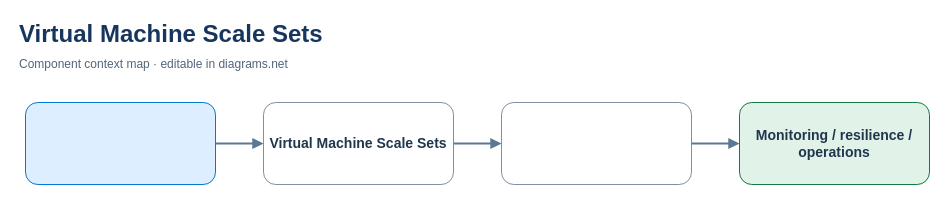
This 947x202 diagram has some shape labels left out. The shapes that lost their labels are listed below. From the top down, each one's centre as x and y in pixels, then its label:
the point at 120,143: E · Compute & Application Hosting
the point at 596,143: Identity / network / governance controls
